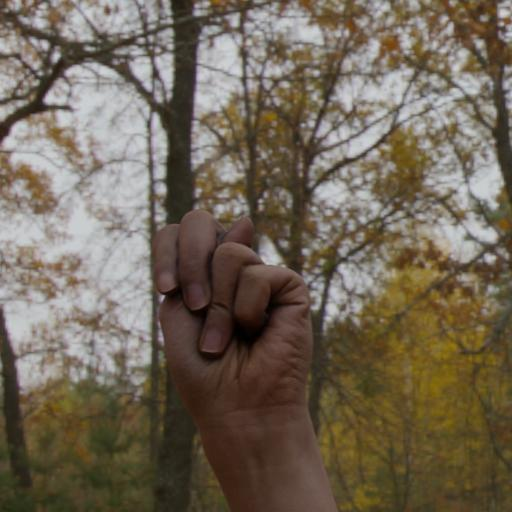N: (149, 203, 316, 419)
